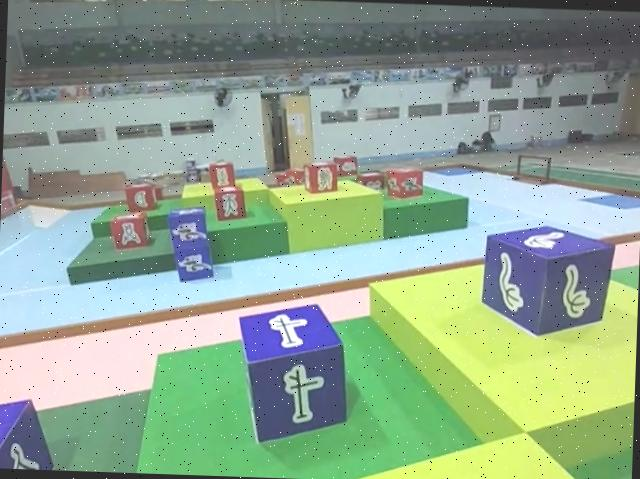R2 Real Blue: (233, 303, 348, 450), (481, 224, 617, 342), (0, 397, 61, 470)
